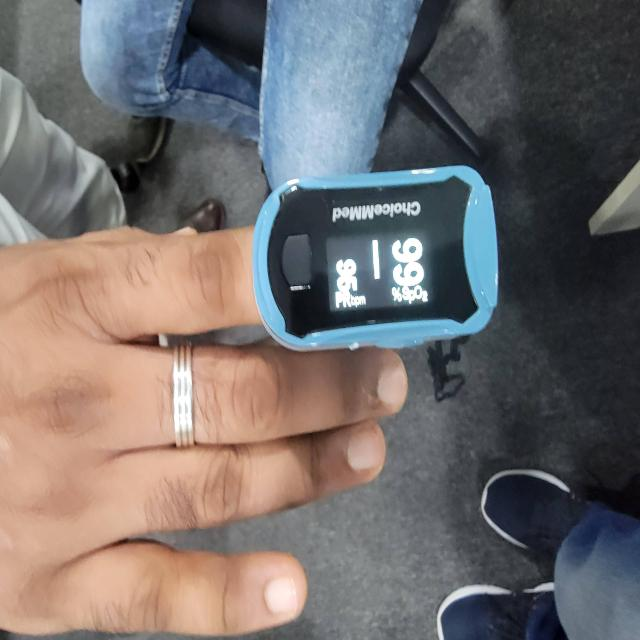spo2: (250, 166, 501, 353)
